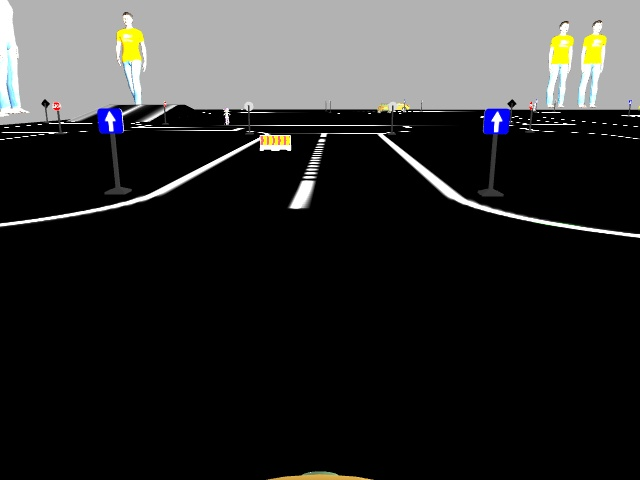ClosedRoadStand: (259, 135, 291, 151)
OneWay: (485, 107, 508, 135), (98, 108, 122, 130)
